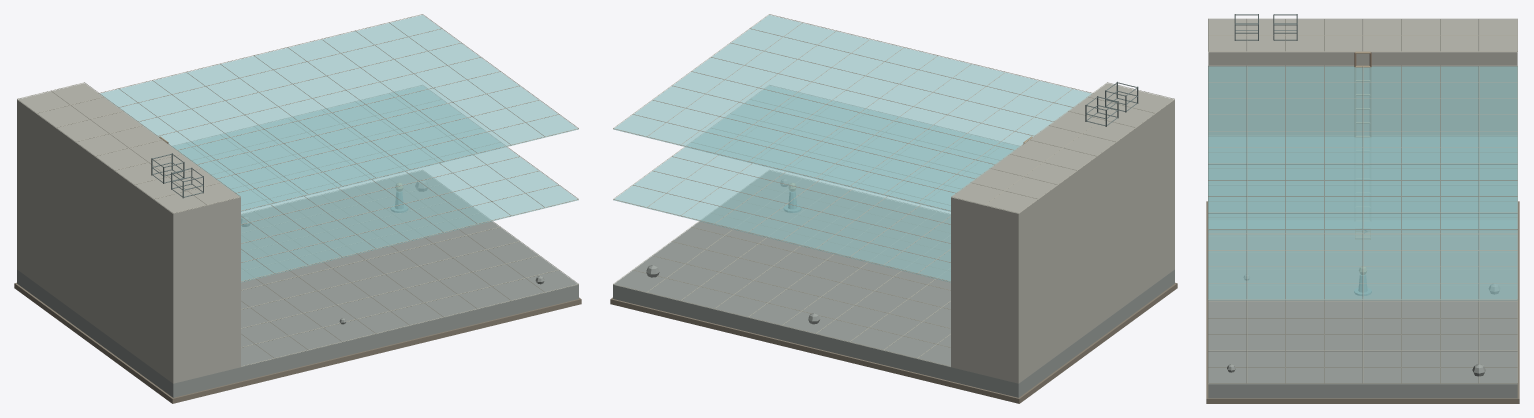
File: tide-pool.glb
The picture shows the model from 3 angles, left to right: view 1: azimuth 30°, elevation 25°; view 2: azimuth 150°, elevation 25°; view 3: azimuth 270°, elevation 25°; orthographic projection.
Parts seen in each view (by area): view 1: ground, water-high, architecture, water-low, grid-high, grid, grid-low, details; view 2: ground, water-high, architecture, water-low, grid-high, grid, grid-low, details; view 3: ground, water-high, water-low, architecture, grid-high, grid, grid-low, details.
Part boxes in pixels (bbox=[...]): ground: bbox=[14, 171, 581, 403]; water-high: bbox=[100, 15, 578, 211]; architecture: bbox=[17, 83, 240, 383]; water-low: bbox=[174, 86, 578, 282]; grid-high: bbox=[98, 14, 578, 210]; grid: bbox=[17, 82, 578, 366]; grid-low: bbox=[174, 85, 578, 281]; details: bbox=[151, 136, 544, 324]; ground: bbox=[610, 171, 1177, 403]; water-high: bbox=[613, 15, 1091, 211]; architecture: bbox=[951, 83, 1174, 383]; water-low: bbox=[613, 86, 1017, 282]; grid-high: bbox=[613, 14, 1093, 210]; grid: bbox=[613, 82, 1174, 366]; grid-low: bbox=[613, 85, 1017, 281]; details: bbox=[646, 81, 1138, 324]; ground: bbox=[1206, 201, 1519, 403]; water-high: bbox=[1208, 66, 1517, 230]; water-low: bbox=[1208, 137, 1517, 300]; architecture: bbox=[1208, 19, 1517, 135]; grid-high: bbox=[1208, 65, 1517, 229]; grid: bbox=[1208, 18, 1517, 383]; grid-low: bbox=[1208, 152, 1517, 299]; details: bbox=[1227, 14, 1500, 376].
Bounding box in the file's own units: 18.44 × 8.87 × 12.34.
